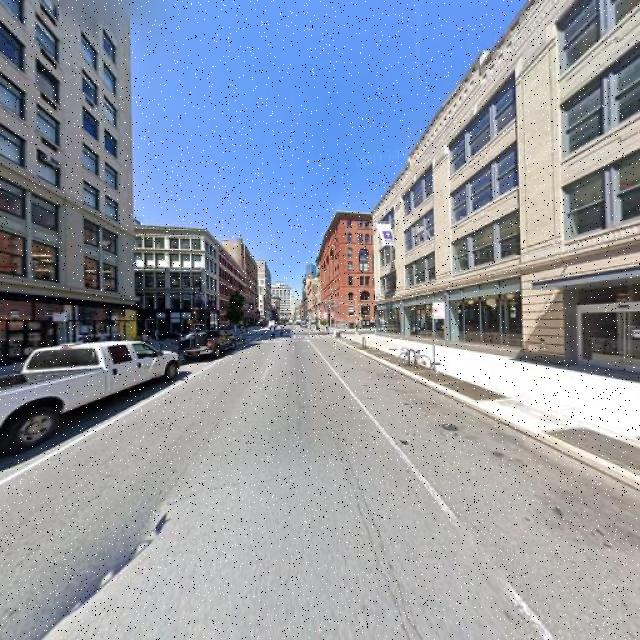Building: (373, 1, 640, 379), (1, 1, 134, 367)
